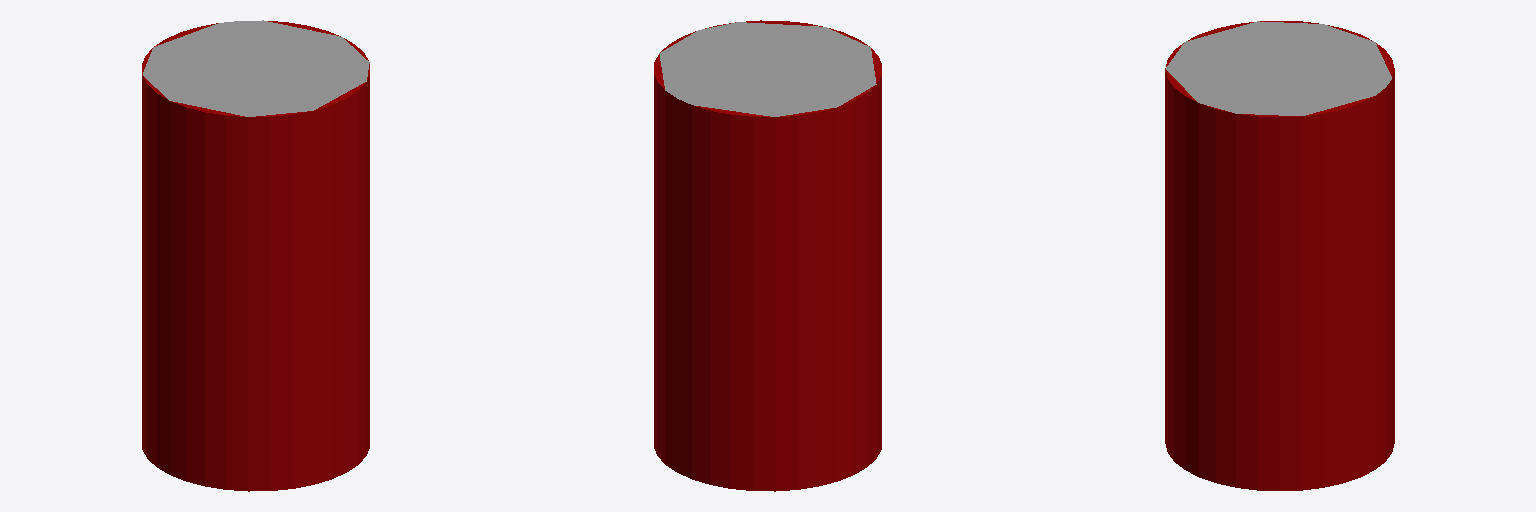
robot.urdf — quakerOats:
<robot
  name="quakerOats">
  <link name="quakerOats">
    <inertial>
      <origin xyz="0.0 0.0 0.0" rpy="0 0 0"/>
      <mass value="0.4"/>
      <inertia ixx="1" ixy="0.0" ixz="0.0" iyy="1" iyz="0.0" izz="1" />
    </inertial>

    <visual>
      <geometry>
        <mesh filename="../meshes/quakerOats.dae" scale="1 1 1" />
      </geometry>
     </visual>

    <collision>
      <geometry>
        <mesh filename="../meshes/quakerOats.dae" scale="1 1 1" />
      </geometry>
    </collision>

  </link>
</robot>

--- What the picture shows (computed from the rendered views, not written in the file) ---
Views: 3 orthographic renders of the robot side by side, from view 1: azimuth 30°, elevation 25°; view 2: azimuth 150°, elevation 25°; view 3: azimuth 270°, elevation 25°.
Robot: quakerOats — 1 links, 0 joints (none); root link quakerOats; default pose: every joint at zero.
Links seen in each view (by area): view 1: quakerOats; view 2: quakerOats; view 3: quakerOats.
Boxes of the visible links, bbox=[...] form: quakerOats: bbox=[142, 20, 369, 491]; quakerOats: bbox=[654, 20, 881, 491]; quakerOats: bbox=[1165, 21, 1394, 490].
Size in the robot's own frame: 0.1 by 0.1 by 0.18 metres.
Meshes: 1 distinct files referenced, 1 mesh visuals loaded (1 Collada DAE).